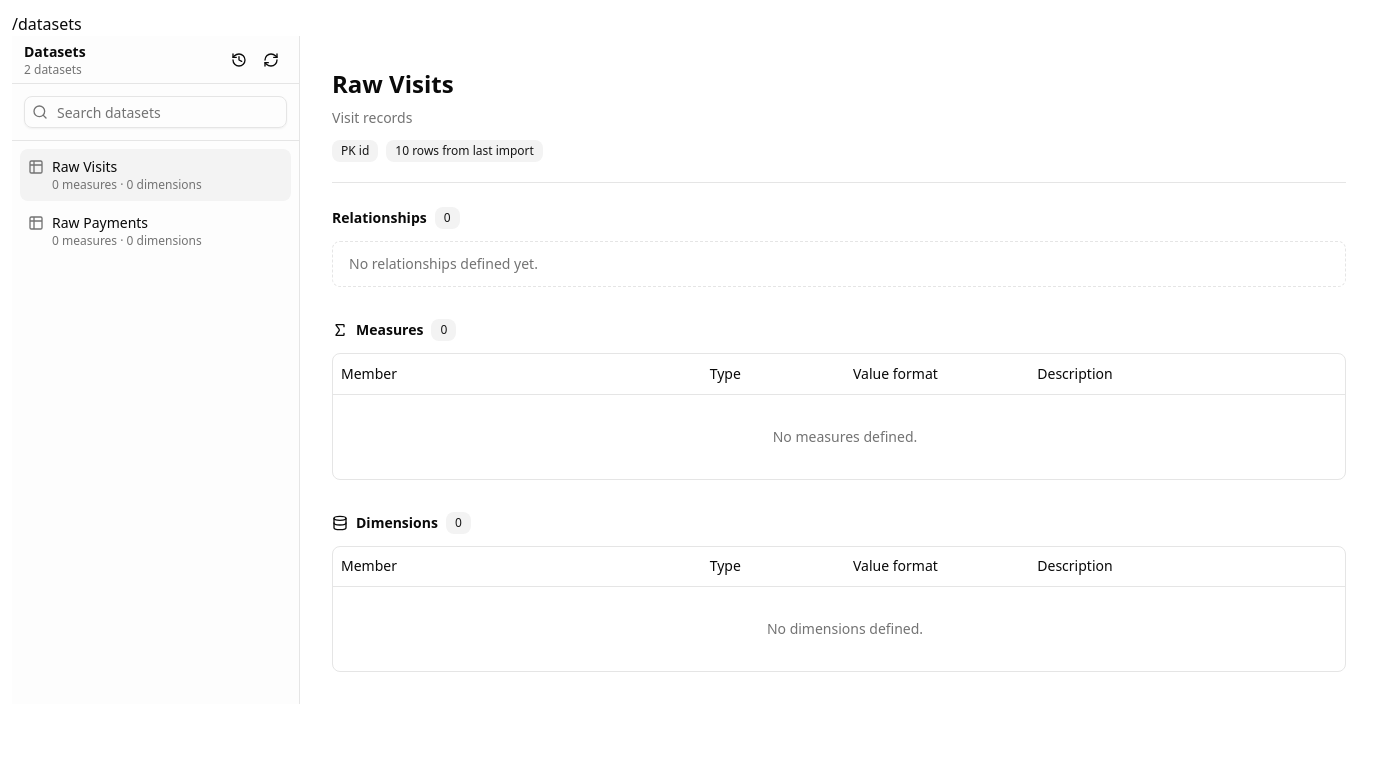
Test: DatasetBrowserPage routing › updates the URL when a dataset is selected
Click the button with test id "dataset-item-raw_payments". click: (156, 231)
box: [20, 205, 291, 257]
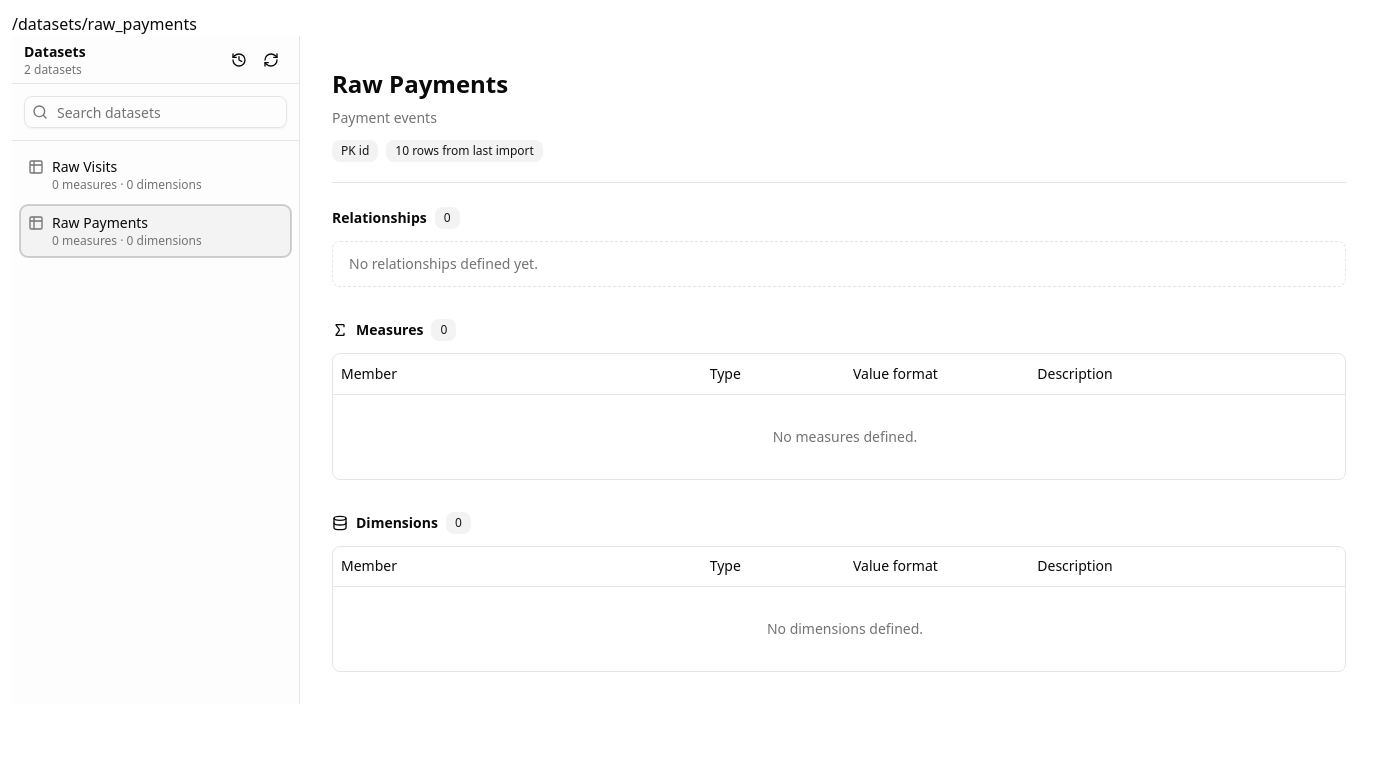
Expected: the text with test id "location" reads "/datasets/raw_payments", [12, 13, 197, 35]
